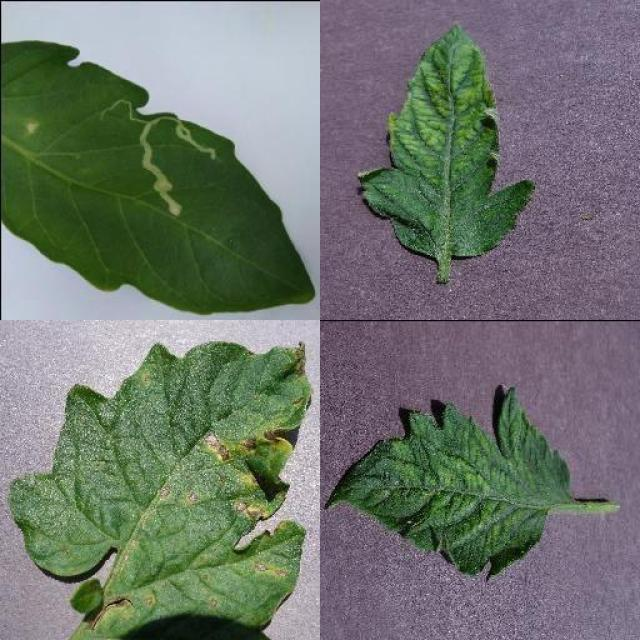Septoria: (9, 336, 311, 640)
